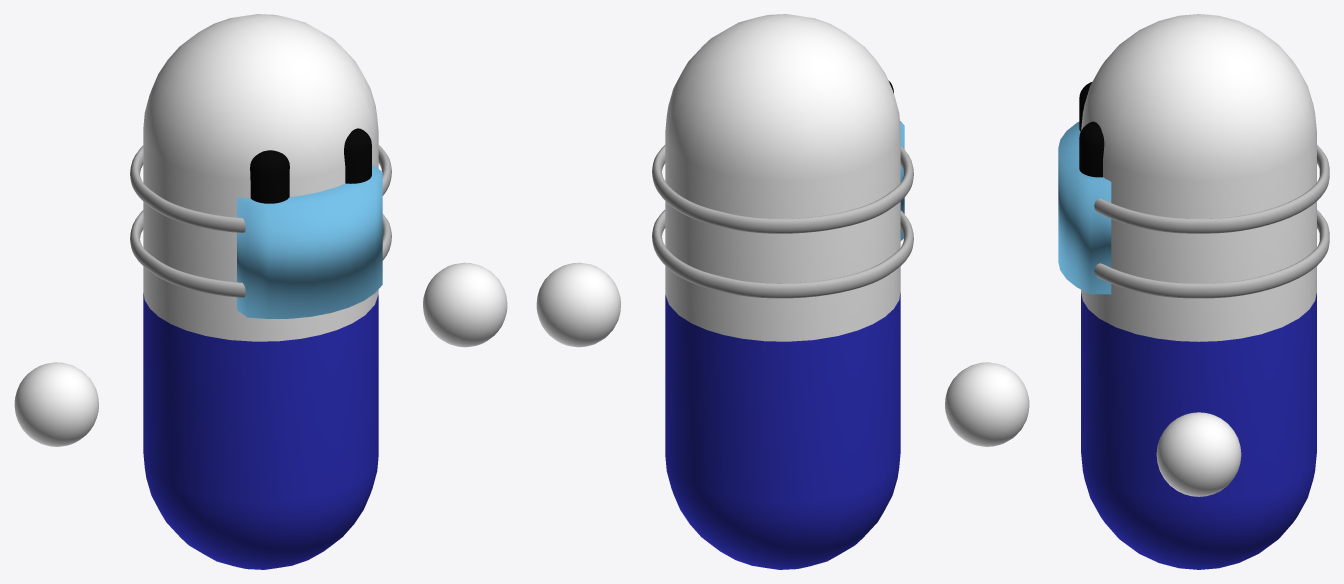
The model's file is capsule-kun.fbx.
The picture shows the model from 3 angles, left to right: view 1: azimuth 30°, elevation 25°; view 2: azimuth 150°, elevation 25°; view 3: azimuth 270°, elevation 25°; orthographic projection.
Parts seen in each view (by area): view 1: Body, Mask, RightHand, LeftHand, MaskStrap, MaskStrap1, RightEye, LeftEye; view 2: Body, RightHand, LeftHand, MaskStrap, MaskStrap1; view 3: Body, Mask, LeftHand, MaskStrap, MaskStrap1, LeftEye.
Boxes of the visible parts, x1=… form: Body: x1=143, y1=14, x2=378, y2=569; Mask: x1=237, y1=164, x2=382, y2=318; RightHand: x1=14, y1=362, x2=98, y2=446; LeftHand: x1=423, y1=262, x2=507, y2=347; MaskStrap: x1=130, y1=145, x2=391, y2=232; MaskStrap1: x1=130, y1=210, x2=391, y2=297; RightEye: x1=250, y1=150, x2=289, y2=203; LeftEye: x1=344, y1=128, x2=371, y2=183; Body: x1=665, y1=14, x2=900, y2=569; RightHand: x1=945, y1=362, x2=1029, y2=446; LeftHand: x1=536, y1=262, x2=620, y2=347; MaskStrap: x1=652, y1=145, x2=913, y2=233; MaskStrap1: x1=652, y1=210, x2=913, y2=298; Body: x1=1081, y1=14, x2=1316, y2=569; Mask: x1=1058, y1=122, x2=1111, y2=294; LeftHand: x1=1156, y1=412, x2=1241, y2=496; MaskStrap: x1=1094, y1=145, x2=1329, y2=233; MaskStrap1: x1=1094, y1=210, x2=1329, y2=298; LeftEye: x1=1079, y1=121, x2=1104, y2=177.
Bounding box in the file's own units: 236 × 250 × 115.
